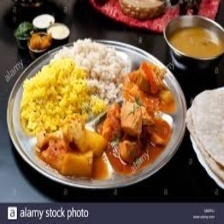roti: (183, 80, 224, 194)
